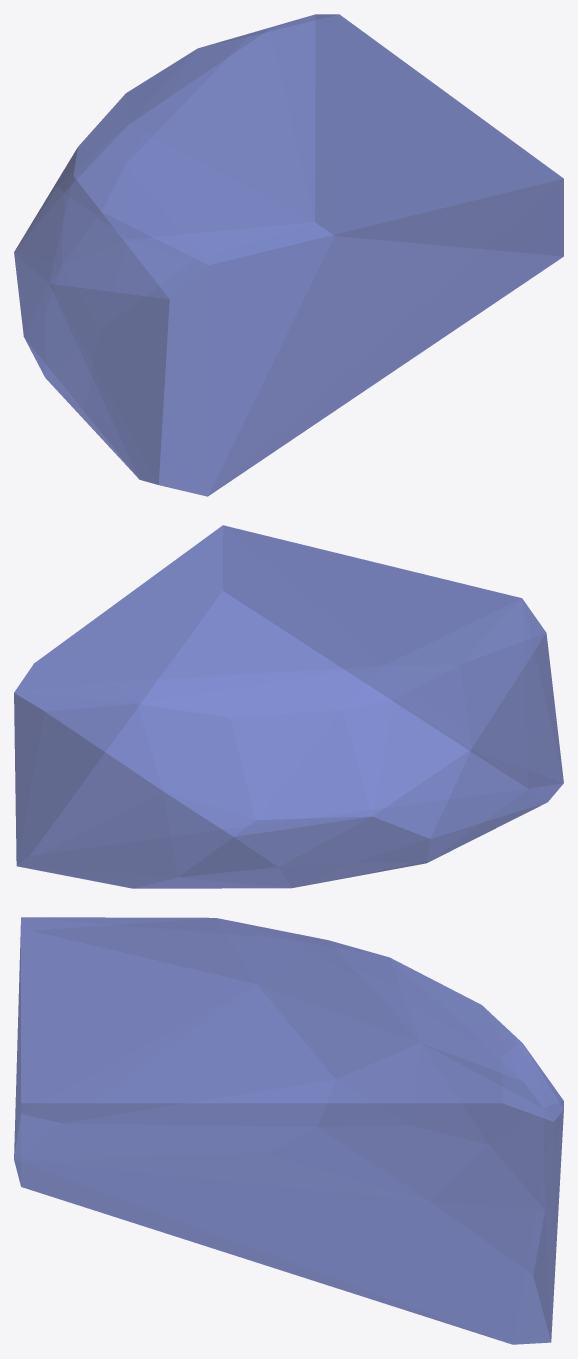
3 views of the same model, one above another, from view 1: azimuth 30°, elevation 25°; view 2: azimuth 150°, elevation 25°; view 3: azimuth 270°, elevation 25° (orthographic). The views are drawn at different scales.
Parts seen in each view (by area): view 1: Shape_IndexedFaceSet.049_Shape_IndexedFaceSet.10684; view 2: Shape_IndexedFaceSet.049_Shape_IndexedFaceSet.10684; view 3: Shape_IndexedFaceSet.049_Shape_IndexedFaceSet.10684.
Boxes of the visible parts, box(x1,y1,x2,y2) form: Shape_IndexedFaceSet.049_Shape_IndexedFaceSet.10684: box(14, 14, 563, 496); Shape_IndexedFaceSet.049_Shape_IndexedFaceSet.10684: box(14, 525, 563, 888); Shape_IndexedFaceSet.049_Shape_IndexedFaceSet.10684: box(14, 917, 563, 1344).
Bounding box in the file's own units: 0.1216 × 0.0653 × 0.1332.
